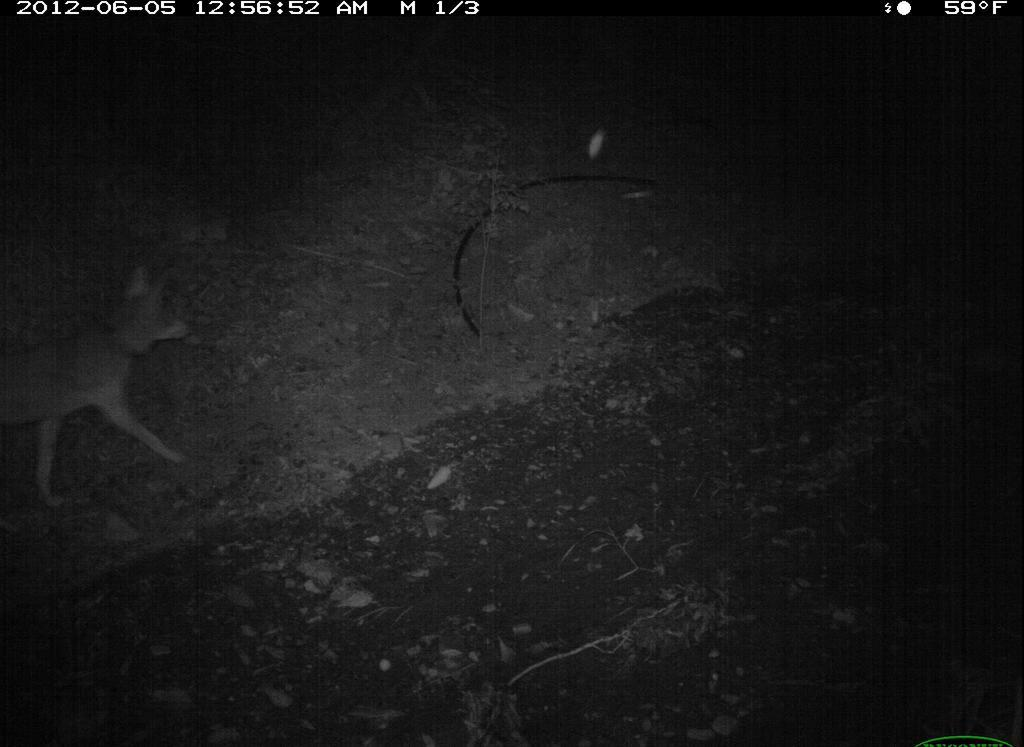coyote: (6, 258, 203, 513)
